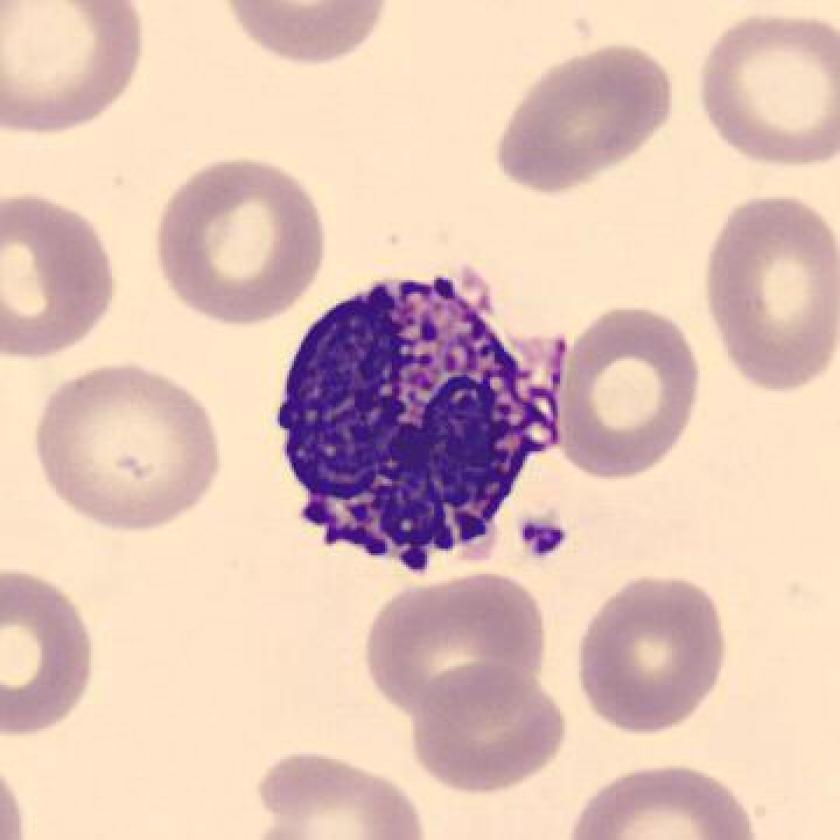basophil: (272, 270, 561, 573)
